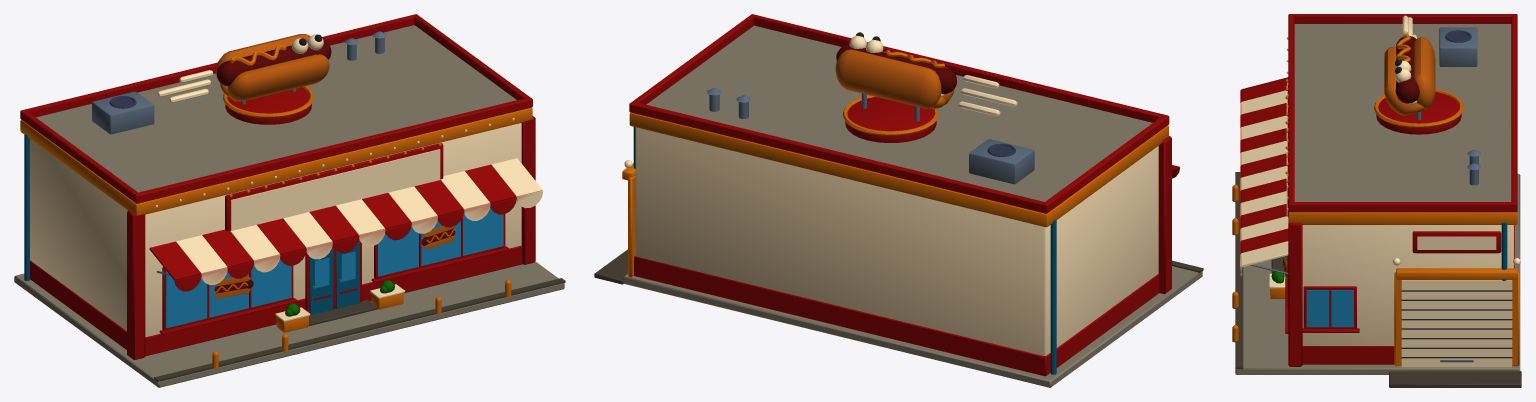
The model's file is DashShop.obj.
3 views of the same model, side by side, from view 1: azimuth 30°, elevation 25°; view 2: azimuth 150°, elevation 25°; view 3: azimuth 270°, elevation 25° (orthographic). The views are drawn at different scales.
Parts seen in each view (by area): view 1: DashShop; view 2: DashShop; view 3: DashShop.
Part boxes in pixels (x1,y1,x2,y2): DashShop: (14,14,565,387); DashShop: (594,14,1203,387); DashShop: (1232,14,1521,387).
Bounding box in the file's own units: 31.12 × 16.02 × 18.3.
